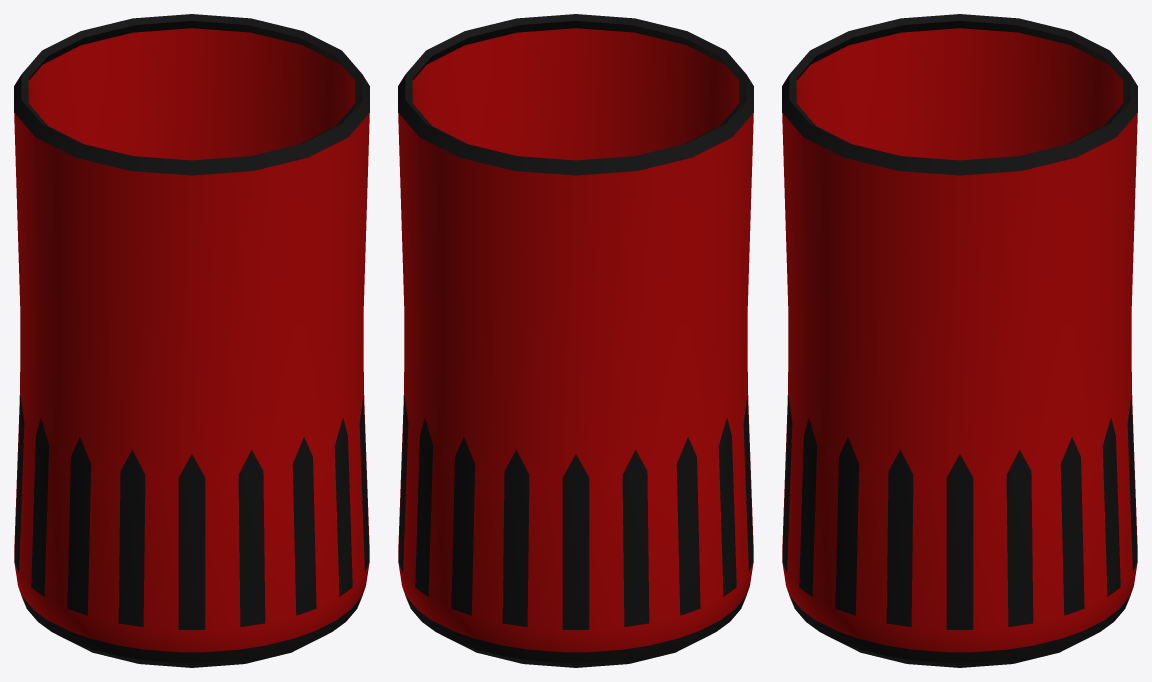
The model's file is Glass 1.fbx.
3 renders of one model, left to right at view 1: azimuth 30°, elevation 25°; view 2: azimuth 150°, elevation 25°; view 3: azimuth 270°, elevation 25°, orthographic.
Parts seen in each view (by area): view 1: Glass 1; view 2: Glass 1; view 3: Glass 1.
Boxes of the visible parts, box(x1,y1,x2,y2) form: Glass 1: box(14, 14, 369, 667); Glass 1: box(398, 14, 753, 667); Glass 1: box(782, 14, 1137, 667).
Bounding box in the file's own units: 6.27 × 9.86 × 6.17.
